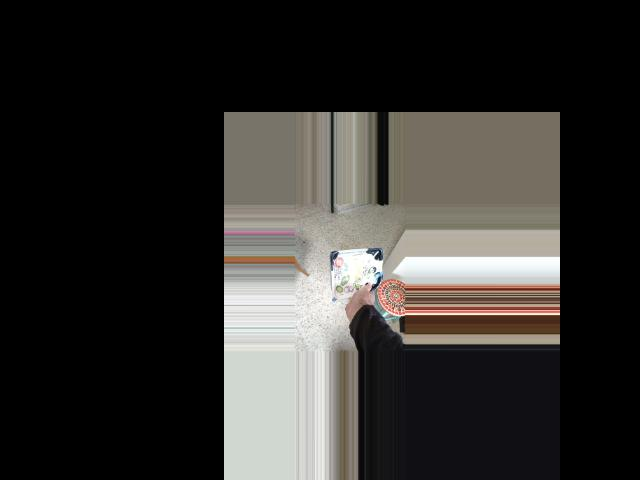cheese: (323, 250, 389, 317)
